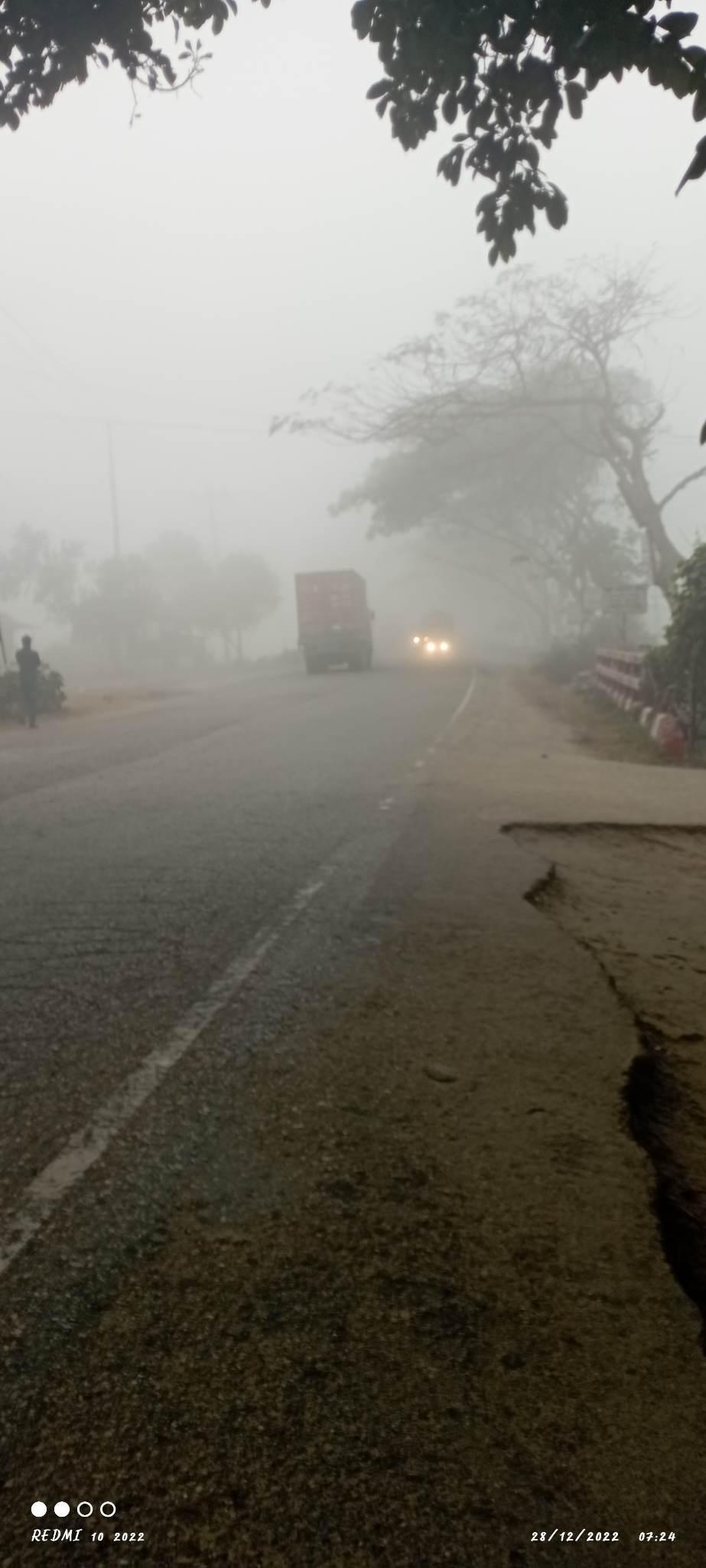Truck: (275, 547, 387, 689)
